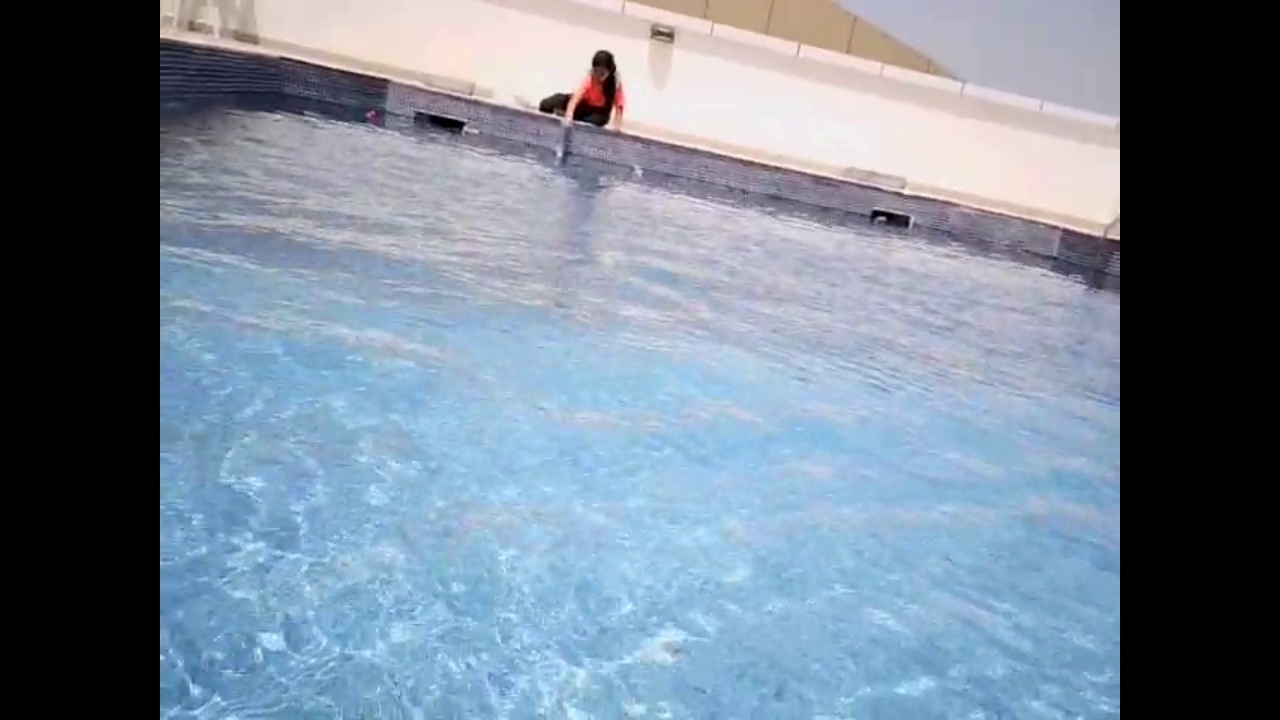debris: (458, 121, 486, 141), (547, 142, 567, 163), (625, 159, 645, 178), (360, 106, 380, 123), (870, 209, 888, 226)
